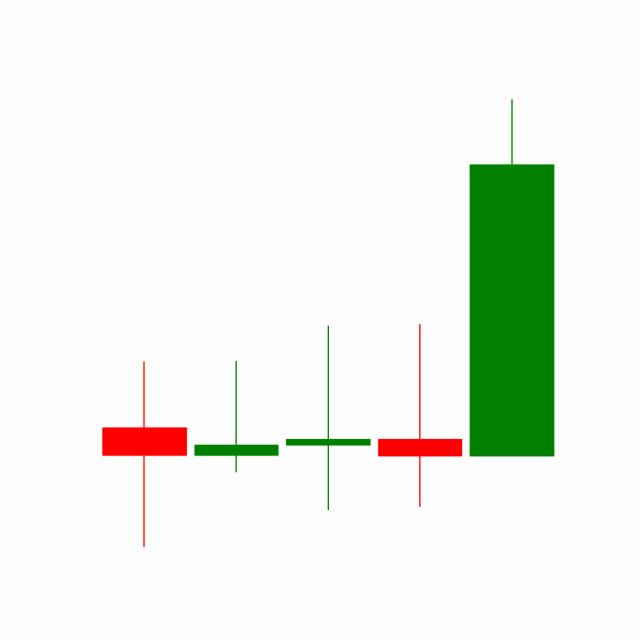Spinning Top: (373, 322, 467, 509)
